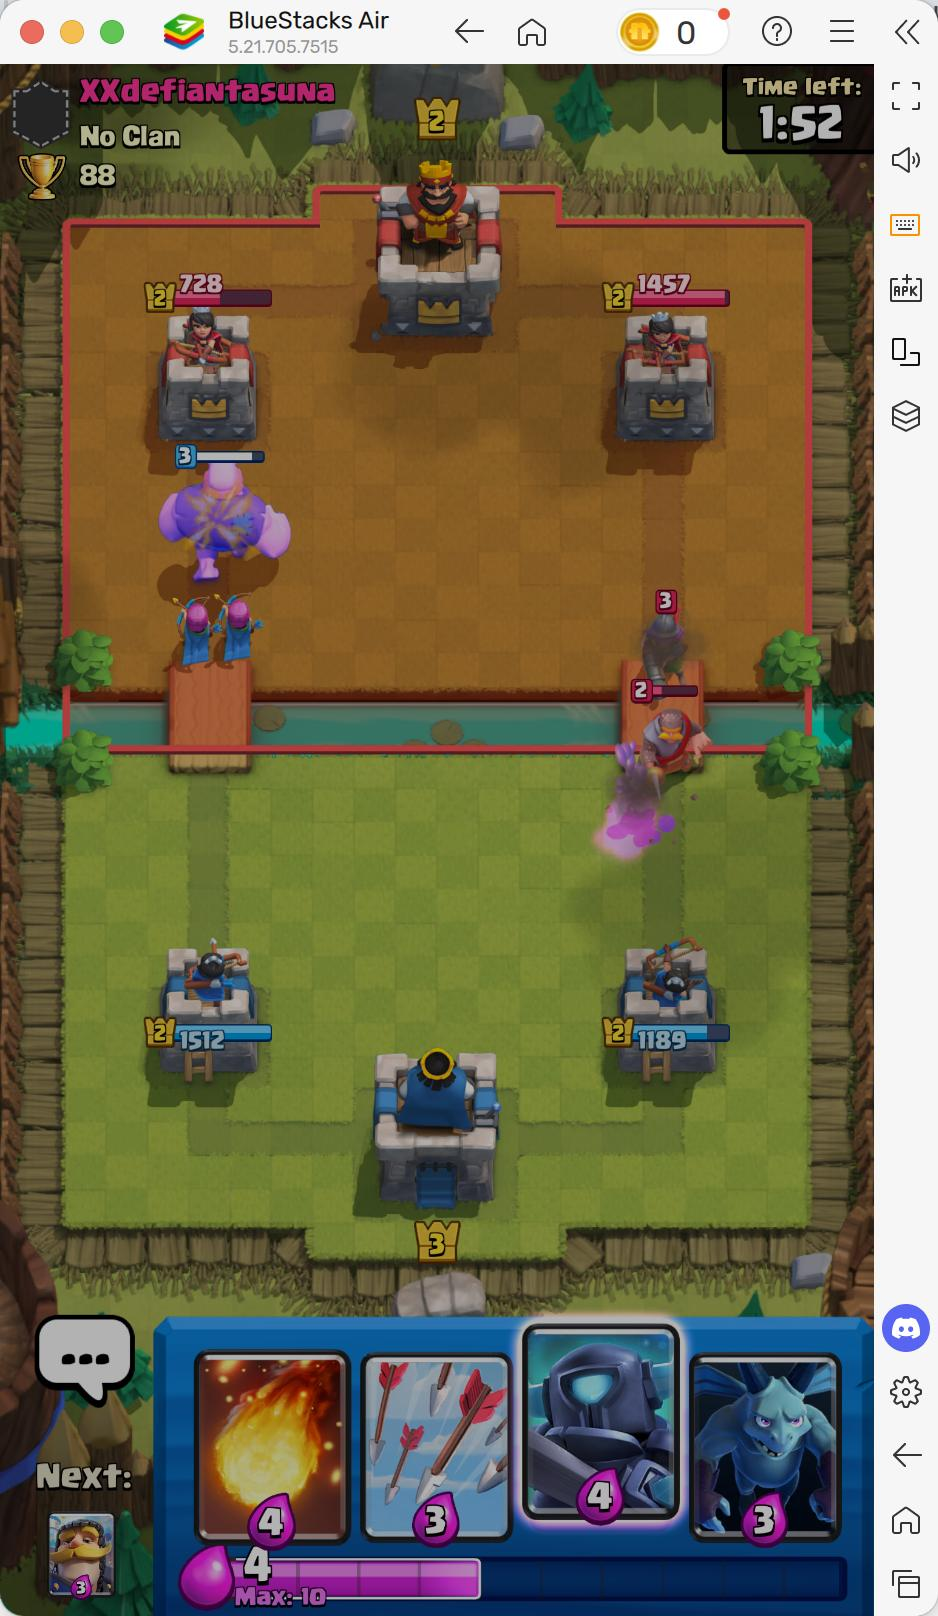1: (757, 103, 775, 142), (644, 1027, 657, 1052), (636, 1028, 648, 1052), (179, 1029, 190, 1052), (200, 1029, 212, 1050), (636, 272, 648, 295)
14: (618, 944, 717, 1077), (161, 944, 260, 1074)
2: (816, 103, 845, 142), (210, 1029, 227, 1052), (192, 271, 208, 295)
3: (424, 1502, 450, 1539), (752, 1502, 777, 1538), (75, 1579, 87, 1597)
4: (240, 1543, 277, 1588), (584, 1472, 616, 1517), (257, 1503, 288, 1541), (645, 273, 663, 294)
5: (789, 103, 817, 144), (662, 271, 678, 296), (188, 1029, 202, 1052)
9: (176, 271, 194, 296), (677, 271, 692, 296)
Battle: (654, 1029, 672, 1052), (204, 272, 223, 294)
Enemy Tower: (670, 1028, 688, 1052)
Friendly Winner: (614, 314, 716, 442), (156, 315, 257, 444)
